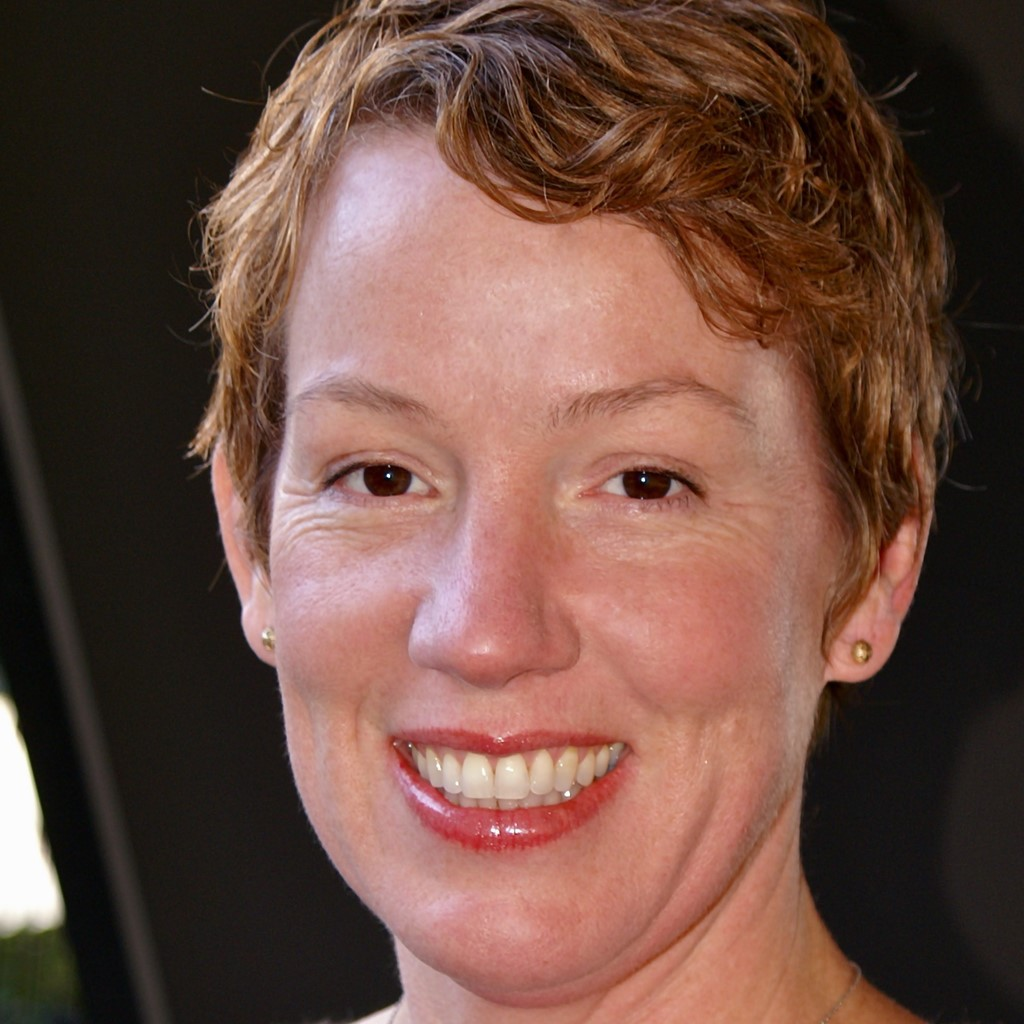sin_mascara: (256, 116, 851, 982)
